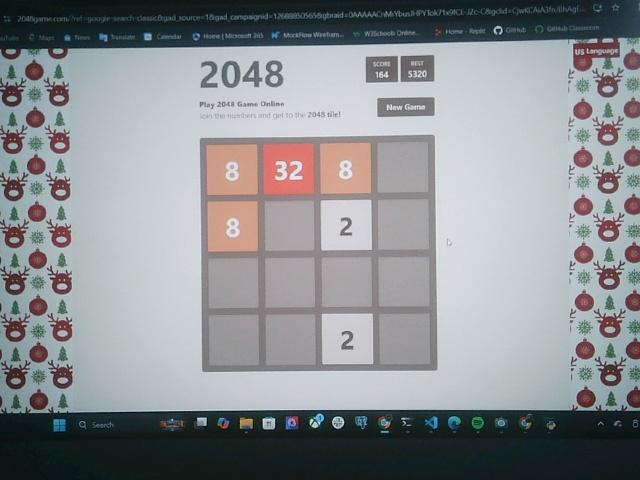best_score_box: (401, 56, 434, 82)
board: (199, 134, 437, 372)
button: (378, 97, 435, 117)
score_box: (366, 56, 397, 83)
tile: (205, 143, 259, 196), (262, 143, 315, 196), (319, 142, 372, 195), (322, 312, 374, 366), (321, 198, 374, 250), (208, 201, 259, 253)
